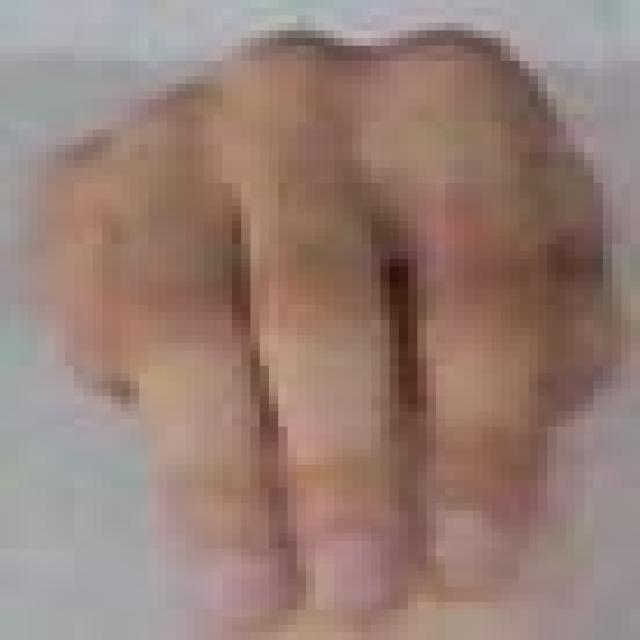M: (0, 7, 621, 624)
